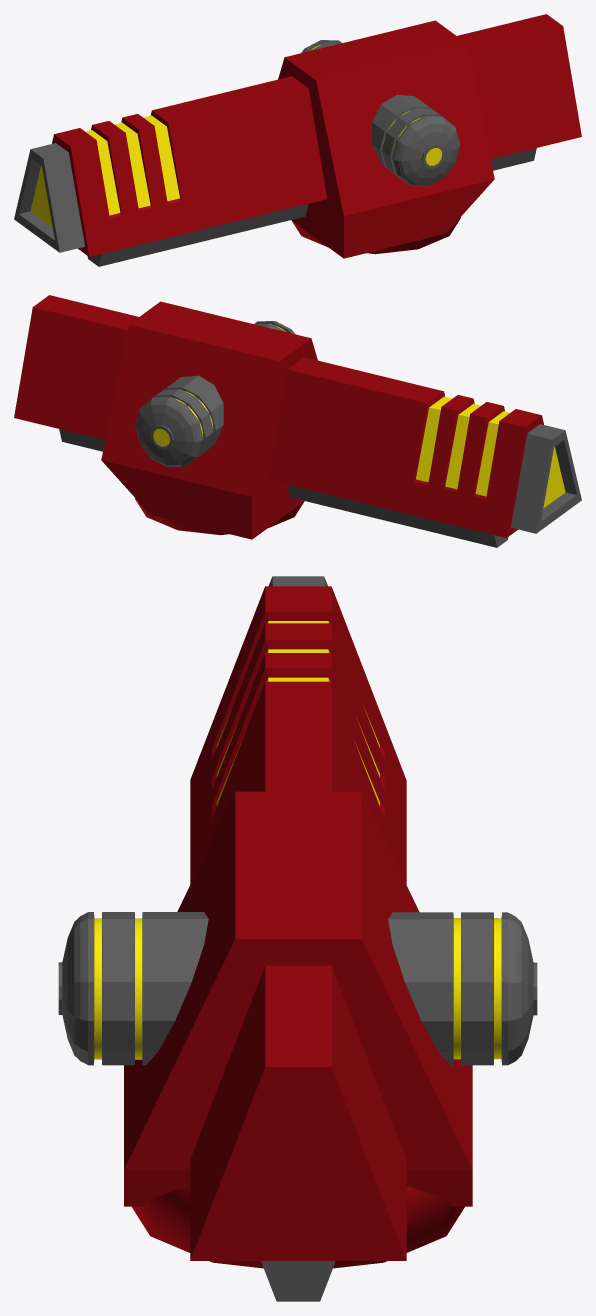
File: Turret_Top_Lvl1.fbx
3 renders of one model, top to bottom at view 1: azimuth 30°, elevation 25°; view 2: azimuth 150°, elevation 25°; view 3: azimuth 270°, elevation 25°, orthographic. The views are drawn at different scales.
Visible parts, largest first — view 1: Cube.012, Cube.004, Gun Side Piece L.005, Cube.013, Cube.015, Cube.016, Cylinder.001, Cube.014; view 2: Cube.012, Cube.004, Gun Side Piece L.004, Cube.013, Cube.015, Cube.016, Cylinder.001, Cube.014; view 3: Cube.012, Cube.004, Gun Side Piece L.005, Gun Side Piece L.004, Cylinder.001, Cube.015, Cylinder.012, Cylinder.010, Cube.016.
Boxes of the visible parts, x1,y1,x2,y2 form: Cube.012: [52, 14, 581, 256]; Cube.004: [278, 20, 494, 258]; Gun Side Piece L.005: [372, 94, 460, 186]; Cube.013: [14, 143, 84, 252]; Cube.015: [87, 148, 536, 266]; Cube.016: [85, 115, 179, 215]; Cylinder.001: [291, 217, 460, 254]; Cube.014: [30, 166, 52, 227]; Cube.012: [14, 295, 543, 537]; Cube.004: [101, 301, 317, 539]; Gun Side Piece L.004: [135, 375, 223, 467]; Cube.013: [511, 424, 581, 533]; Cube.015: [59, 429, 508, 547]; Cube.016: [416, 396, 510, 496]; Cylinder.001: [135, 498, 304, 535]; Cube.014: [543, 447, 565, 508]; Cube.012: [190, 586, 406, 1260]; Cube.004: [124, 791, 472, 1206]; Gun Side Piece L.005: [58, 912, 208, 1065]; Gun Side Piece L.004: [388, 912, 537, 1065]; Cylinder.001: [132, 1186, 464, 1268]; Cube.015: [261, 1261, 335, 1301]; Cylinder.012: [94, 918, 142, 1059]; Cylinder.010: [453, 918, 501, 1059]; Cube.016: [216, 621, 379, 806].
Size of the model in its own units: 426 by 132 by 171.
